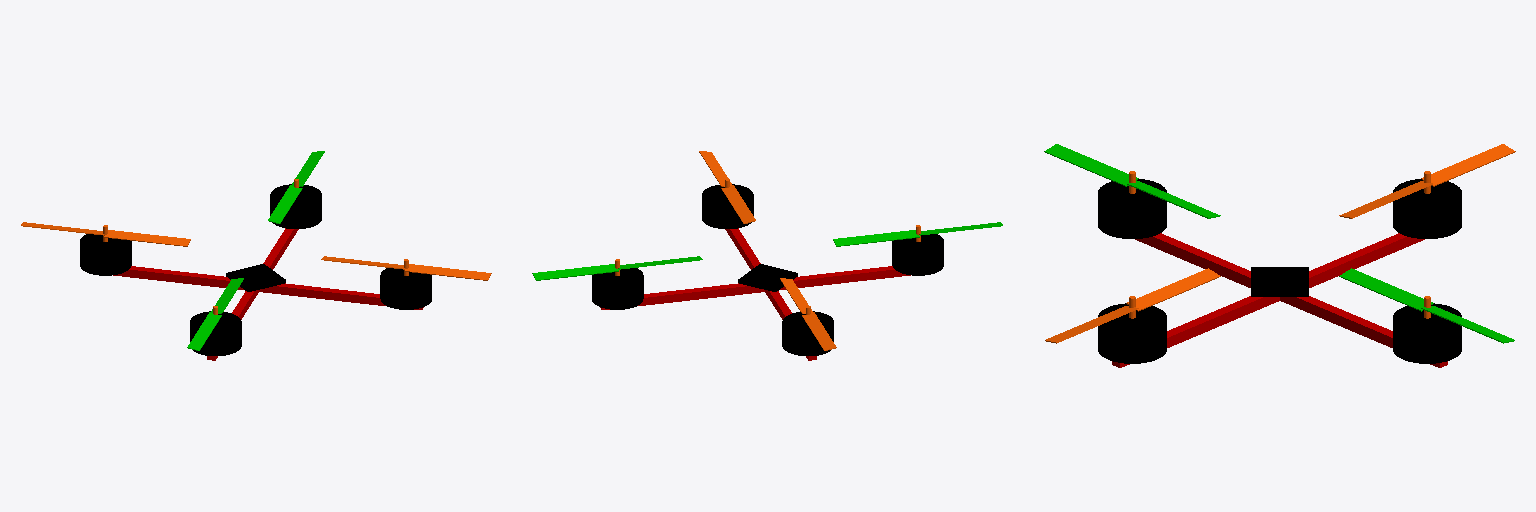
--- Render facts (derived) ---
Views: 3 orthographic renders of the robot side by side, from view 1: azimuth 30°, elevation 25°; view 2: azimuth 150°, elevation 25°; view 3: azimuth 270°, elevation 25°.
Model rrbot with 21 links and 20 joints (11 revolute, 4 continuous, 5 fixed), rooted at dummyroot, posed all joints at 0.
Visible links, largest first — view 1: bar0, motor1_link, motor3_link, motor0_link, motor2_link, FC, bar1, motor3_blade1, motor1_blade1, motor0_blade2, motor2_blade2; view 2: bar1, motor0_link, motor2_link, motor1_link, motor3_link, FC, bar0, motor2_blade1, motor0_blade1, motor1_blade2, motor3_blade2; view 3: bar0, bar1, motor0_link, motor1_link, motor2_link, motor3_link, FC, motor0_blade2, motor1_blade2, motor2_blade2, motor3_blade2, motor2_blade1 (+3 smaller).
Boxes of the visible links, box(x1,y1,x2,y2) form: bar0: box(113, 266, 423, 309); motor1_link: box(380, 268, 431, 309); motor3_link: box(80, 234, 131, 275); motor0_link: box(270, 184, 321, 228); motor2_link: box(190, 311, 241, 355); FC: box(226, 264, 285, 291); bar1: box(207, 228, 298, 360); motor3_blade1: box(104, 230, 190, 246); motor1_blade1: box(405, 264, 491, 280); motor0_blade2: box(268, 185, 302, 223); motor2_blade2: box(187, 312, 221, 350); bar1: box(600, 266, 910, 309); motor0_link: box(592, 268, 643, 309); motor2_link: box(892, 234, 943, 275); motor1_link: box(702, 184, 753, 228); motor3_link: box(782, 311, 833, 355); FC: box(738, 264, 797, 291); bar0: box(725, 228, 816, 360); motor2_blade1: box(833, 230, 919, 246); motor0_blade1: box(532, 264, 618, 280); motor1_blade2: box(721, 185, 755, 223); motor3_blade2: box(802, 312, 836, 350); bar0: box(1112, 233, 1424, 367); bar1: box(1135, 233, 1447, 367); motor0_link: box(1393, 303, 1461, 363); motor1_link: box(1098, 303, 1166, 363); motor2_link: box(1098, 179, 1166, 238); motor3_link: box(1393, 179, 1461, 238); FC: box(1251, 267, 1308, 296); motor0_blade2: box(1339, 268, 1433, 311); motor1_blade2: box(1126, 268, 1220, 311); motor2_blade2: box(1044, 144, 1138, 186); motor3_blade2: box(1421, 144, 1515, 186); motor2_blade1: box(1127, 181, 1220, 218).
Size in the robot's own frame: 0.4065 by 0.4065 by 0.0595 metres.
Geometry: primitives only (box / cylinder / sphere), no mesh files.

robot.urdf — rrbot:
<?xml version="1.0" ?>
<!-- =================================================================================== -->
<!-- |    This document was autogenerated by xacro from rrbot.xacro                    | -->
<!-- |    EDITING THIS FILE BY HAND IS NOT RECOMMENDED                                 | -->
<!-- =================================================================================== -->
<!-- Revolute-Revolute Manipulator -->
<robot name="rrbot">
  <!-- ros_control plugin -->
  <gazebo>
    <plugin filename="libgazebo_ros_control.so" name="gazebo_ros_control">
      <robotNamespace>/rrbot</robotNamespace>
      <robotSimType>gazebo_ros_control/DefaultRobotHWSim</robotSimType>
    </plugin>
    <plugin filename="libgazebo_ros_p3d.so" name="rrbot_groundtruth">
      <robotNamespace>/rrbot</robotNamespace>
      <frameName>world</frameName>
      <alwaysOn>true</alwaysOn>
      <bodyName>FC</bodyName>
      <topicName>position_groundtruth</topicName>
      <gaussianNoise>0.00</gaussianNoise>
      <updateRate>100.0</updateRate>
    </plugin>
    <plugin filename="libhector_gazebo_ros_imu.so" name="quadrotor_imu_gt">
      <robotNamespace>/rrbot</robotNamespace>
      <updateRate>100.0</updateRate>
      <frameId>world</frameId>
      <bodyName>FC</bodyName>
      <topicName>imu_groundtruth</topicName>
      <rpyOffset>0 0 0</rpyOffset>
      <!-- deprecated -->
      <gaussianNoise>0</gaussianNoise>
      <!-- deprecated -->
      <accelDrift>0 0 0</accelDrift>
      <accelGaussianNoise>0 0 0</accelGaussianNoise>
      <rateDrift>0 0 0</rateDrift>
      <rateGaussianNoise>0 0 0</rateGaussianNoise>
    </plugin>
    <plugin filename="libhector_gazebo_ros_imu.so" name="quadrotor_imu_sim">
      <robotNamespace>/rrbot</robotNamespace>
      <updateRate>100.0</updateRate>
      <frameId>world</frameId>
      <bodyName>FC</bodyName>
      <topicName>sim_imu</topicName>
      <rpyOffset>0 0 0</rpyOffset>
      <!-- deprecated -->
      <gaussianNoise>0</gaussianNoise>
      <!-- deprecated -->
      <accelDrift>0.05 0.05 0.05</accelDrift>
      <accelGaussianNoise>0.35 0.35 0.3</accelGaussianNoise>
      <rateDrift>0.1 0.1 0.1</rateDrift>
      <rateGaussianNoise>0.05 0.05 0.015</rateGaussianNoise>
    </plugin>
    <plugin filename="libhector_gazebo_ros_baro.so" name="quadrotor_baro_sim">
      <robotNamespace>/rrbot</robotNamespace>
      <updateRate>10.0</updateRate>
      <bodyName>FC</bodyName>
      <frameId>world</frameId>
      <topicName>sim_barometer</topicName>
      <altimeterTopicName>sim_altimeter</altimeterTopicName>
      <offset>0</offset>
      <drift>10.0</drift>
      <gaussianNoise>0.1</gaussianNoise>
    </plugin>
    <plugin filename="libhector_gazebo_ros_magnetic.so" name="quadrotor_magnetic_sim">
      <robotNamespace>/rrbot</robotNamespace>
      <updateRate>10.0</updateRate>
      <bodyName>FC</bodyName>
      <frameId>world</frameId>
      <topicName>sim_magnetometer</topicName>
      <offset>0 0 0</offset>
      <drift>0.0 0.0 0.0</drift>
      <gaussianNoise>1.3e-2 1.3e-2 1.3e-2</gaussianNoise>
    </plugin>
    <plugin filename="libhector_gazebo_ros_gps.so" name="quadrotor_gps_sim">
      <robotNamespace>/rrbot</robotNamespace>
      <updateRate>5.0</updateRate>
      <bodyName>FC</bodyName>
      <frameId>world</frameId>
      <topicName>sim_gps_fix</topicName>
      <velocityTopicName>sim_gps_vel</velocityTopicName>
      <referenceLatitude>48.75</referenceLatitude>
      <referenceLongitude>9.105</referenceLongitude>
      <drift>5.0 5.0 5.0</drift>
      <gaussianNoise>0.01 0.01 0.01</gaussianNoise>
      <velocityDrift>0 0 0</velocityDrift>
      <velocityGaussianNoise>0.05 0.05 0.05</velocityGaussianNoise>
    </plugin>
  </gazebo>
  <!-- The ft_sensor plugin 
    <gazebo reference="$FC_joint">
      <provideFeedback>true</provideFeedback>
    </gazebo>

	
    <gazebo>
      <plugin name="ft_sensor" filename="libgazebo_ros_ft_sensor.so">
        <updateRate>100.0</updateRate>
        <topicName>force_torque</topicName>
        <jointName>FC_joint</jointName>
     </plugin>
   </gazebo>
    
     The ft_sensor plugin -->
  <material name="Black">
    <color rgba="0.0 0.0 0.0 1.0"/>
  </material>
  <material name="Blue">
    <color rgba="0.0 0.0 0.8 1.0"/>
  </material>
  <material name="Green">
    <color rgba="0.0 0.8 0.0 1.0"/>
  </material>
  <material name="Grey">
    <color rgba="0.2 0.2 0.2 1.0"/>
  </material>
  <material name="Orange">
    <color rgba="1.0 0.4235294117647059 0.0392156862745098 1.0"/>
  </material>
  <material name="Brown">
    <color rgba="0.8705882352941177 0.8117647058823529 0.7647058823529411 1.0"/>
  </material>
  <material name="Red">
    <color rgba="0.8 0.0 0.0 1.0"/>
  </material>
  <material name="White">
    <color rgba="1.0 1.0 1.0 1.0"/>
  </material>
  <!-- dummy root link used for a vehicle that is not glued to the world map-->
  <link name="dummyroot"/>
  <link name="FC">
    <collision>
      <origin rpy="0 0 0" xyz="0 0 0"/>
      <geometry>
        <box size="0.05 0.05 0.005"/>
      </geometry>
    </collision>
    <visual>
      <origin rpy="0 0 0" xyz="0 0 0"/>
      <geometry>
        <box size="0.05 0.05 0.005"/>
      </geometry>
      <material name="Black"/>
    </visual>
    <inertial>
      <origin rpy="0 0 0" xyz="0 0 0"/>
      <mass value="0.002"/>
      <inertia ixx="4.2083333333333336e-07" ixy="0.0" ixz="0.0" iyy="4.2083333333333336e-07" iyz="0.0" izz="8.333333333333334e-07"/>
    </inertial>
  </link>
  <gazebo reference="FC">
    <material>Gazebo/Black</material>
    <mu1>0.2</mu1>
    <mu2>0.2</mu2>
  </gazebo>
  <joint name="FC_joint" type="revolute">
    <parent link="dummyroot"/>
    <origin rpy="0 0 0" xyz="0 0 0.01"/>
    <child link="FC"/>
    <limit effort="1000" lower="0" upper="0" velocity="10"/>
  </joint>
  <link name="FT_sensor">
    <collision>
      <origin rpy="0 0 0" xyz="0 0 0"/>
      <geometry>
        <box size="0.005 0.0005 0.0005"/>
      </geometry>
    </collision>
    <visual>
      <origin rpy="0 0 0" xyz="0 0 0"/>
      <geometry>
        <box size="0.005 0.0005 0.0005"/>
      </geometry>
      <material name="Black"/>
    </visual>
    <inertial>
      <origin rpy="0 0 0" xyz="0 0 0"/>
      <mass value="1e-05"/>
      <inertia ixx="4.166666666666667e-13" ixy="0.0" ixz="0.0" iyy="2.1041666666666668e-11" iyz="0.0" izz="2.1041666666666668e-11"/>
    </inertial>
  </link>
  <gazebo reference="FT_sensor">
    <material>Gazebo/Black</material>
    <mu1>0.2</mu1>
    <mu2>0.2</mu2>
  </gazebo>
  <joint name="FT_sensor_joint" type="revolute">
    <parent link="bar0"/>
    <origin rpy="0 0 0" xyz="0 0 0.00"/>
    <child link="FT_sensor"/>
    <limit effort="1000" lower="0" upper="0" velocity="10"/>
  </joint>
  <!-- <xacro:box_base_link name="FT_sensor" m="0.001" x="0.005" y="0.005" z="0.005" mat="Black">
        <nothing/>
    </xacro:box_base_link> -->
  <!-- <joint name="FT_sensor_joint" type="revolute">
        <parent link="dummyroot_FT"/>
        <origin xyz="0 0 0.01" rpy="0 0  ${PI/4}"/>
        <child link="FT_sensor"/>
        <limit effort="1000" velocity="10" lower="0" upper="0" />
    </joint> -->
  <!-- <joint name="${name}" type="revolute">
   <parent link="${parent}"/>
   <child link="${child}"/>
   <origin rpy="0 0 0" xyz="0 0 0"/>
   <axis xyz="1 0 0"/>
   <limit effort="1000" lower="0" upper="0" velocity="10"/>
  </joint>  -->
  <gazebo reference="FT_sensor_joint">
    <provideFeedback>true</provideFeedback>
  </gazebo>
  <!-- The ft_sensor plugin -->
  <gazebo>
    <plugin filename="libgazebo_ros_ft_sensor.so" name="ft_sensor">
      <updateRate>100.0</updateRate>
      <topicName>force_torque</topicName>
      <jointName>FT_sensor_joint</jointName>
    </plugin>
  </gazebo>
  <!-- END OF DEFINITION FT SENSOR ============================-->
  <!-- 2 red bars 90 degrees to each other -->
  <joint name="dummyrootjoint" type="revolute">
    <parent link="dummyroot"/>
    <origin rpy="0 0 -0.7853981633974483" xyz="0 0 0"/>
    <child link="bar0"/>
    <limit effort="1000" lower="0" upper="0" velocity="10"/>
  </joint>
  <link name="bar0">
    <collision>
      <origin rpy="0 0 0" xyz="0 0 0"/>
      <geometry>
        <box size="0.4 0.01 0.01"/>
      </geometry>
    </collision>
    <visual>
      <origin rpy="0 0 0" xyz="0 0 0"/>
      <geometry>
        <box size="0.4 0.01 0.01"/>
      </geometry>
      <material name="Red"/>
    </visual>
    <inertial>
      <origin rpy="0 0 0" xyz="0 0 0"/>
      <mass value="0.1"/>
      <inertia ixx="1.6666666666666667e-06" ixy="0.0" ixz="0.0" iyy="0.0013341666666666669" iyz="0.0" izz="0.0013341666666666669"/>
    </inertial>
  </link>
  <gazebo reference="bar0">
    <material>Gazebo/Red</material>
    <mu1>0.2</mu1>
    <mu2>0.2</mu2>
  </gazebo>
  <joint name="bar_joint" type="fixed">
    <parent link="dummyroot"/>
    <origin rpy="0 0 0.7853981633974483" xyz="0 0 0"/>
    <child link="bar1"/>
  </joint>
  <link name="bar1">
    <collision>
      <origin rpy="0 0 0" xyz="0 0 0"/>
      <geometry>
        <box size="0.4 0.01 0.01"/>
      </geometry>
    </collision>
    <visual>
      <origin rpy="0 0 0" xyz="0 0 0"/>
      <geometry>
        <box size="0.4 0.01 0.01"/>
      </geometry>
      <material name="Red"/>
    </visual>
    <inertial>
      <origin rpy="0 0 0" xyz="0 0 0"/>
      <mass value="0.1"/>
      <inertia ixx="1.6666666666666667e-06" ixy="0.0" ixz="0.0" iyy="0.0013341666666666669" iyz="0.0" izz="0.0013341666666666669"/>
    </inertial>
  </link>
  <gazebo reference="bar1">
    <material>Gazebo/Red</material>
    <mu1>0.2</mu1>
    <mu2>0.2</mu2>
  </gazebo>
  <!-- one motor of each type as example - please also check file:
        < rrbot_control/config/rrbot_control.yaml >
        where the motors are referenced for virtual engine controllers -->
  <joint name="bar_motor0_joint" type="fixed">
    <parent link="bar1"/>
    <origin rpy="0 0 0" xyz="0.18 0 0.02"/>
    <child link="motor0_link"/>
  </joint>
  <link name="motor0_link">
    <collision>
      <origin rpy="0 0 0" xyz="0 0 0"/>
      <geometry>
        <cylinder length="0.03" radius="0.03"/>
      </geometry>
    </collision>
    <visual>
      <origin rpy="0 0 0" xyz="0 0 0"/>
      <geometry>
        <cylinder length="0.03" radius="0.03"/>
      </geometry>
      <material name="Black"/>
    </visual>
    <inertial>
      <origin rpy="0 0 0" xyz="0 0 0"/>
      <mass value="0.05"/>
      <inertia ixx="1.4999999999999999e-05" ixy="0.0" ixz="0.0" iyy="1.4999999999999999e-05" iyz="0.0" izz="2.25e-05"/>
    </inertial>
  </link>
  <gazebo reference="motor0_link">
    <material>Gazebo/Black</material>
    <mu1>0.2</mu1>
    <mu2>0.2</mu2>
  </gazebo>
  <!--xacro:insert_block name="gaz_extra" /-->
  <joint name="motor0" type="continuous">
    <limit effort="100" velocity="1000"/>
    <dynamics damping="0.0001" friction="0.01"/>
    <parent link="motor0_link"/>
    <origin rpy="3.141592653589793 0 0" xyz="0 0 0.025"/>
    <!-- note: rotated 180 deg to force reverse rotation -->
    <axis xyz="0 0 1"/>
    <child link="motor0_axle"/>
  </joint>
  <transmission name="motor0_trans">
    <type>transmission_interface/SimpleTransmission</type>
    <joint name="motor0">
      <hardwareInterface>hardware_interface/EffortJointInterface</hardwareInterface>
    </joint>
    <actuator name="motor0">
      <hardwareInterface>hardware_interface/EffortJointInterface</hardwareInterface>
      <mechanicalReduction>1</mechanicalReduction>
    </actuator>
  </transmission>
  <link name="motor0_axle">
    <collision>
      <origin rpy="0 0 0" xyz="0 0 0"/>
      <geometry>
        <cylinder length="0.019" radius="0.003"/>
      </geometry>
    </collision>
    <visual>
      <origin rpy="0 0 0" xyz="0 0 0"/>
      <geometry>
        <cylinder length="0.019" radius="0.003"/>
      </geometry>
      <material name="Orange"/>
    </visual>
    <inertial>
      <origin rpy="0 0 0" xyz="0 0 0"/>
      <mass value="0.05"/>
      <inertia ixx="1.6166666666666667e-06" ixy="0.0" ixz="0.0" iyy="1.6166666666666667e-06" iyz="0.0" izz="2.2500000000000002e-07"/>
    </inertial>
  </link>
  <gazebo reference="motor0_axle">
    <material>Gazebo/Orange</material>
    <mu1>0.2</mu1>
    <mu2>0.2</mu2>
  </gazebo>
  <!--xacro:insert_block name="gaz_extra" /-->
  <joint name="motor0_blade1_joint" type="revolute">
    <!-- this must be a revolute joint due to a simulator bug. it does not actually move -->
    <limit effort="1000" lower="0" upper="0" velocity="0"/>
    <parent link="motor0_axle"/>
    <origin rpy="-0.17453292519943295 0 0" xyz="0.05 0 0"/>
    <!-- this is the angle of attack of the prop blade: reverse 10 deg-->
    <axis xyz="0 0 1"/>
    <child link="motor0_blade1"/>
  </joint>
  <link name="motor0_blade1">
    <collision>
      <origin rpy="0 0 0" xyz="0 0 0"/>
      <geometry>
        <box size="0.1 0.015 0.001"/>
      </geometry>
    </collision>
    <visual>
      <origin rpy="0 0 0" xyz="0 0 0"/>
      <geometry>
        <box size="0.1 0.015 0.001"/>
      </geometry>
      <material name="Green"/>
    </visual>
    <inertial>
      <origin rpy="0 0 0" xyz="0 0 0"/>
      <mass value="0.005"/>
      <inertia ixx="9.416666666666667e-08" ixy="0.0" ixz="0.0" iyy="4.1670833333333344e-06" iyz="0.0" izz="4.2604166666666675e-06"/>
    </inertial>
  </link>
  <gazebo reference="motor0_blade1">
    <material>Gazebo/Green</material>
    <mu1>0.2</mu1>
    <mu2>0.2</mu2>
  </gazebo>
  <gazebo>
    <plugin filename="libLiftDragPlugin.so" name="motor0_blade1_lifting_surface">
      <a0>0</a0>
      <alpha_stall>0.3368</alpha_stall>
      <cla>5.418</cla>
      <cla_stall>-2.1419</cla_stall>
      <cda>0.6366197723675814</cda>
      <cda_stall>0.6366197723675814</cda_stall>
      <area>0.015</area>
      <!-- using 10 times the area to enforce lower prop speeds due to simulator limitations -->
      <air_density>1.2041</air_density>
      <forward>0 1 0</forward>
      <upward>0 0 1</upward>
      <cp>0 0 0</cp>
      <link_name>motor0_blade1</link_name>
      <radial_symmetry>false</radial_symmetry>
    </plugin>
  </gazebo>
  <joint name="motor0_blade2_joint" type="revolute">
    <!-- this must be a revolute joint due to a simulator bug. it does not actually move -->
    <limit effort="1000" lower="0" upper="0" velocity="0"/>
    <parent link="motor0_axle"/>
    <origin rpy="-0.17453292519943295 0 3.141592653589793" xyz="-0.05 0 0"/>
    <!-- this is the angle of attack of the prop blade: reverse 10 deg-->
    <axis xyz="0 0 1"/>
    <child link="motor0_blade2"/>
  </joint>
  <link name="motor0_blade2">
    <collision>
      <origin rpy="0 0 0" xyz="0 0 0"/>
      <geometry>
        <box size="0.1 0.015 0.001"/>
      </geometry>
    </collision>
    <visual>
      <origin rpy="0 0 0" xyz="0 0 0"/>
      <geometry>
        <box size="0.1 0.015 0.001"/>
      </geometry>
      <material name="Green"/>
    </visual>
    <inertial>
      <origin rpy="0 0 0" xyz="0 0 0"/>
      <mass value="0.005"/>
      <inertia ixx="9.416666666666667e-08" ixy="0.0" ixz="0.0" iyy="4.1670833333333344e-06" iyz="0.0" izz="4.2604166666666675e-06"/>
    </inertial>
  </link>
  <gazebo reference="motor0_blade2">
    <material>Gazebo/Green</material>
    <mu1>0.2</mu1>
    <mu2>0.2</mu2>
  </gazebo>
  <gazebo>
    <plugin filename="libLiftDragPlugin.so" name="motor0_blade2_lifting_surface">
      <a0>0</a0>
      <alpha_stall>0.3368</alpha_stall>
      <cla>5.418</cla>
      <cla_stall>-2.1419</cla_stall>
      <cda>0.6366197723675814</cda>
      <cda_stall>0.6366197723675814</cda_stall>
      <area>0.015</area>
      <!-- using 10 times the area to enforce lower prop speeds due to simulator limitations -->
      <air_density>1.2041</air_density>
      <forward>0 1 0</forward>
      <upward>0 0 1</upward>
      <cp>0 0 0</cp>
      <link_name>motor0_blade2</link_name>
      <radial_symmetry>false</radial_symmetry>
    </plugin>
  </gazebo>
  <joint name="bar_motor2_joint" type="fixed">
    <parent link="bar1"/>
    <origin rpy="0 0 0" xyz="-0.18 0 0.02"/>
    <child link="motor2_link"/>
  </joint>
  <link name="motor2_link">
    <collision>
      <origin rpy="0 0 0" xyz="0 0 0"/>
      <geometry>
        <cylinder length="0.03" radius="0.03"/>
      </geometry>
    </collision>
    <visual>
      <origin rpy="0 0 0" xyz="0 0 0"/>
      <geometry>
        <cylinder length="0.03" radius="0.03"/>
      </geometry>
      <material name="Black"/>
    </visual>
    <inertial>
      <origin rpy="0 0 0" xyz="0 0 0"/>
      <mass value="0.05"/>
      <inertia ixx="1.4999999999999999e-05" ixy="0.0" ixz="0.0" iyy="1.4999999999999999e-05" iyz="0.0" izz="2.25e-05"/>
    </inertial>
  </link>
  <gazebo reference="motor2_link">
    <material>Gazebo/Black</material>
    <mu1>0.2</mu1>
    <mu2>0.2</mu2>
  </gazebo>
  <!--xacro:insert_block name="gaz_extra" /-->
  <joint name="motor2" type="continuous">
    <limit effort="100" velocity="1000"/>
    <dynamics damping="0.0001" friction="0.01"/>
    <parent link="motor2_link"/>
    <origin rpy="3.141592653589793 0 0" xyz="0 0 0.025"/>
    <!-- note: rotated 180 deg to force reverse rotation -->
    <axis xyz="0 0 1"/>
    <child link="motor2_axle"/>
  </joint>
  <transmission name="motor2_trans">
    <type>transmission_interface/SimpleTransmission</type>
    <joint name="motor2">
      <hardwareInterface>hardware_interface/EffortJointInterface</hardwareInterface>
    </joint>
    <actuator name="motor2">
      <hardwareInterface>hardware_interface/EffortJointInterface</hardwareInterface>
      <mechanicalReduction>1</mechanicalReduction>
    </actuator>
  </transmission>
  <link name="motor2_axle">
    <collision>
      <origin rpy="0 0 0" xyz="0 0 0"/>
      <geometry>
        <cylinder length="0.019" radius="0.003"/>
      </geometry>
    </collision>
    <visual>
      <origin rpy="0 0 0" xyz="0 0 0"/>
      <geometry>
        <cylinder length="0.019" radius="0.003"/>
      </geometry>
      <material name="Orange"/>
    </visual>
    <inertial>
      <origin rpy="0 0 0" xyz="0 0 0"/>
      <mass value="0.05"/>
      <inertia ixx="1.6166666666666667e-06" ixy="0.0" ixz="0.0" iyy="1.6166666666666667e-06" iyz="0.0" izz="2.2500000000000002e-07"/>
    </inertial>
  </link>
  <gazebo reference="motor2_axle">
    <material>Gazebo/Orange</material>
    <mu1>0.2</mu1>
    <mu2>0.2</mu2>
  </gazebo>
  <!--xacro:insert_block name="gaz_extra" /-->
  <joint name="motor2_blade1_joint" type="revolute">
    <!-- this must be a revolute joint due to a simulator bug. it does not actually move -->
    <limit effort="1000" lower="0" upper="0" velocity="0"/>
    <parent link="motor2_axle"/>
    <origin rpy="-0.17453292519943295 0 0" xyz="0.05 0 0"/>
    <!-- this is the angle of attack of the prop blade: reverse 10 deg-->
    <axis xyz="0 0 1"/>
    <child link="motor2_blade1"/>
  </joint>
  <link name="motor2_blade1">
    <collision>
      <origin rpy="0 0 0" xyz="0 0 0"/>
      <geometry>
        <box size="0.1 0.015 0.001"/>
      </geometry>
    </collision>
    <visual>
      <origin rpy="0 0 0" xyz="0 0 0"/>
      <geometry>
        <box size="0.1 0.015 0.001"/>
      </geometry>
      <material name="Green"/>
    </visual>
    <inertial>
      <origin rpy="0 0 0" xyz="0 0 0"/>
      <mass value="0.005"/>
      <inertia ixx="9.416666666666667e-08" ixy="0.0" ixz="0.0" iyy="4.1670833333333344e-06" iyz="0.0" izz="4.2604166666666675e-06"/>
    </inertial>
  </link>
  <gazebo reference="motor2_blade1">
    <material>Gazebo/Green</material>
    <mu1>0.2</mu1>
    <mu2>0.2</mu2>
  </gazebo>
  <gazebo>
    <plugin filename="libLiftDragPlugin.so" name="motor2_blade1_lifting_surface">
      <a0>0</a0>
      <alpha_stall>0.3368</alpha_stall>
      <cla>5.418</cla>
      <cla_stall>-2.1419</cla_stall>
      <cda>0.6366197723675814</cda>
      <cda_stall>0.6366197723675814</cda_stall>
      <area>0.015</area>
      <!-- using 10 times the area to enforce lower prop speeds due to simulator limitations -->
      <air_density>1.2041</air_density>
      <forward>0 1 0</forward>
      <upward>0 0 1</upward>
      <cp>0 0 0</cp>
      <link_name>motor2_blade1</link_name>
      <radial_symmetry>false</radial_symmetry>
    </plugin>
  </gazebo>
  <joint name="motor2_blade2_joint" type="revolute">
    <!-- this must be a revolute joint due to a simulator bug. it does not actually move -->
    <limit effort="1000" lower="0" upper="0" velocity="0"/>
    <parent link="motor2_axle"/>
    <origin rpy="-0.17453292519943295 0 3.141592653589793" xyz="-0.05 0 0"/>
    <!-- this is the angle of attack of the prop blade: reverse 10 deg-->
    <axis xyz="0 0 1"/>
    <child link="motor2_blade2"/>
  </joint>
  <link name="motor2_blade2">
    <collision>
      <origin rpy="0 0 0" xyz="0 0 0"/>
      <geometry>
        <box size="0.1 0.015 0.001"/>
      </geometry>
    </collision>
    <visual>
      <origin rpy="0 0 0" xyz="0 0 0"/>
      <geometry>
        <box size="0.1 0.015 0.001"/>
      </geometry>
      <material name="Green"/>
    </visual>
    <inertial>
      <origin rpy="0 0 0" xyz="0 0 0"/>
      <mass value="0.005"/>
      <inertia ixx="9.416666666666667e-08" ixy="0.0" ixz="0.0" iyy="4.1670833333333344e-06" iyz="0.0" izz="4.2604166666666675e-06"/>
    </inertial>
  </link>
  <gazebo reference="motor2_blade2">
    <material>Gazebo/Green</material>
    <mu1>0.2</mu1>
    <mu2>0.2</mu2>
  </gazebo>
  <gazebo>
    <plugin filename="libLiftDragPlugin.so" name="motor2_blade2_lifting_surface">
      <a0>0</a0>
      <alpha_stall>0.3368</alpha_stall>
      <cla>5.418</cla>
      <cla_stall>-2.1419</cla_stall>
      <cda>0.6366197723675814</cda>
      <cda_stall>0.6366197723675814</cda_stall>
      <area>0.015</area>
      <!-- using 10 times the area to enforce lower prop speeds due to simulator limitations -->
      <air_density>1.2041</air_density>
      <forward>0 1 0</forward>
      <upward>0 0 1</upward>
      <cp>0 0 0</cp>
      <link_name>motor2_blade2</link_name>
      <radial_symmetry>false</radial_symmetry>
    </plugin>
  </gazebo>
  <joint name="bar_motor1_joint" type="fixed">
    <parent link="bar0"/>
    <origin rpy="0 0 0" xyz="0.18 0 0.02"/>
    <child link="motor1_link"/>
  </joint>
  <link name="motor1_link">
    <collision>
      <origin rpy="0 0 0" xyz="0 0 0"/>
      <geometry>
        <cylinder length="0.03" radius="0.03"/>
      </geometry>
    </collision>
    <visual>
      <origin rpy="0 0 0" xyz="0 0 0"/>
      <geometry>
        <cylinder length="0.03" radius="0.03"/>
      </geometry>
      <material name="Black"/>
    </visual>
    <inertial>
      <origin rpy="0 0 0" xyz="0 0 0"/>
      <mass value="0.05"/>
      <inertia ixx="1.4999999999999999e-05" ixy="0.0" ixz="0.0" iyy="1.4999999999999999e-05" iyz="0.0" izz="2.25e-05"/>
    </inertial>
  </link>
  <gazebo reference="motor1_link">
    <material>Gazebo/Black</material>
    <mu1>0.2</mu1>
    <mu2>0.2</mu2>
  </gazebo>
  <!--xacro:insert_block name="gaz_extra" /-->
  <joint name="motor1" type="continuous">
    <limit effort="100" velocity="1000"/>
    <dynamics damping="0.0001" friction="0.01"/>
    <parent link="motor1_link"/>
    <origin rpy="0 0 0" xyz="0 0 0.025"/>
    <axis xyz="0 0 1"/>
    <child link="motor1_axle"/>
  </joint>
  <transmission name="motor1_trans">
    <type>transmission_interface/SimpleTransmission</type>
    <joint name="motor1">
      <hardwareInterface>hardware_interface/EffortJointInterface</hardwareInterface>
    </joint>
    <actuator name="motor1">
      <hardwareInterface>hardware_interface/EffortJointInterface</hardwareInterface>
      <mechanicalReduction>1</mechanicalReduction>
    </actuator>
  </transmission>
  <link name="motor1_axle">
    <collision>
      <origin rpy="0 0 0" xyz="0 0 0"/>
      <geometry>
        <cylinder length="0.019" radius="0.003"/>
      </geometry>
    </collision>
    <visual>
      <origin rpy="0 0 0" xyz="0 0 0"/>
      <geometry>
        <cylinder length="0.019" radius="0.003"/>
      </geometry>
      <material name="Orange"/>
    </visual>
    <inertial>
      <origin rpy="0 0 0" xyz="0 0 0"/>
      <mass value="0.05"/>
      <inertia ixx="1.6166666666666667e-06" ixy="0.0" ixz="0.0" iyy="1.6166666666666667e-06" iyz="0.0" izz="2.2500000000000002e-07"/>
    </inertial>
  </link>
  <gazebo reference="motor1_axle">
    <material>Gazebo/Orange</material>
    <mu1>0.2</mu1>
    <mu2>0.2</mu2>
  </gazebo>
  <!--xacro:insert_block name="gaz_extra" /-->
  <joint name="motor1_blade1_joint" type="revolute">
    <!-- this must be a revolute joint due to a simulator bug. it does not actually move -->
    <limit effort="1000" lower="0" upper="0" velocity="0"/>
    <parent link="motor1_axle"/>
    <origin rpy="0.17453292519943295 0 0" xyz="0.05 0 0"/>
    <!-- this is the angle of attack of the prop blade: 10 deg-->
    <axis xyz="0 0 1"/>
    <child link="motor1_blade1"/>
  </joint>
  <link name="motor1_blade1">
    <collision>
      <origin rpy="0 0 0" xyz="0 0 0"/>
      <geometry>
        <box size="0.1 0.015 0.001"/>
      </geometry>
    </collision>
    <visual>
      <origin rpy="0 0 0" xyz="0 0 0"/>
      <geometry>
        <box size="0.1 0.015 0.001"/>
      </geometry>
      <material name="Orange"/>
    </visual>
    <inertial>
      <origin rpy="0 0 0" xyz="0 0 0"/>
      <mass value="0.005"/>
      <inertia ixx="9.416666666666667e-08" ixy="0.0" ixz="0.0" iyy="4.1670833333333344e-06" iyz="0.0" izz="4.2604166666666675e-06"/>
    </inertial>
  </link>
  <gazebo reference="motor1_blade1">
    <material>Gazebo/Orange</material>
    <mu1>0.2</mu1>
    <mu2>0.2</mu2>
  </gazebo>
  <gazebo>
    <plugin filename="libLiftDragPlugin.so" name="motor1_blade1_lifting_surface">
      <a0>0</a0>
      <alpha_stall>0.3368</alpha_stall>
      <cla>5.418</cla>
      <cla_stall>-2.1419</cla_stall>
      <cda>0.6366197723675814</cda>
      <cda_stall>0.6366197723675814</cda_stall>
      <area>0.015</area>
      <!-- using 10 times the area to enforce lower prop speeds due to simulator limitations -->
      <air_density>1.2041</air_density>
      <forward>0 1 0</forward>
      <upward>0 0 1</upward>
      <cp>0 0 0</cp>
      <link_name>motor1_blade1</link_name>
      <radial_symmetry>false</radial_symmetry>
    </plugin>
  </gazebo>
  <joint name="motor1_blade2_joint" type="revolute">
    <!-- this must be a revolute joint due to a simulator bug. it does not actually move -->
    <limit effort="1000" lower="0" upper="0" velocity="0"/>
    <parent link="motor1_axle"/>
    <origin rpy="0.17453292519943295 0 3.141592653589793" xyz="-0.05 0 0"/>
    <!-- this is the angle of attack of the prop blade: 10 deg-->
    <axis xyz="0 0 1"/>
    <child link="motor1_blade2"/>
  </joint>
  <link name="motor1_blade2">
    <collision>
      <origin rpy="0 0 0" xyz="0 0 0"/>
      <geometry>
        <box size="0.1 0.015 0.001"/>
      </geometry>
    </collision>
    <visual>
      <origin rpy="0 0 0" xyz="0 0 0"/>
      <geometry>
        <box size="0.1 0.015 0.001"/>
      </geometry>
      <material name="Orange"/>
    </visual>
    <inertial>
      <origin rpy="0 0 0" xyz="0 0 0"/>
      <mass value="0.005"/>
      <inertia ixx="9.416666666666667e-08" ixy="0.0" ixz="0.0" iyy="4.1670833333333344e-06" iyz="0.0" izz="4.2604166666666675e-06"/>
    </inertial>
  </link>
  <gazebo reference="motor1_blade2">
    <material>Gazebo/Orange</material>
    <mu1>0.2</mu1>
    <mu2>0.2</mu2>
  </gazebo>
  <gazebo>
    <plugin filename="libLiftDragPlugin.so" name="motor1_blade2_lifting_surface">
      <a0>0</a0>
      <alpha_stall>0.3368</alpha_stall>
      <cla>5.418</cla>
      <cla_stall>-2.1419</cla_stall>
      <cda>0.6366197723675814</cda>
      <cda_stall>0.6366197723675814</cda_stall>
      <area>0.015</area>
      <!-- using 10 times the area to enforce lower prop speeds due to simulator limitations -->
      <air_density>1.2041</air_density>
      <forward>0 1 0</forward>
      <upward>0 0 1</upward>
      <cp>0 0 0</cp>
      <link_name>motor1_blade2</link_name>
      <radial_symmetry>false</radial_symmetry>
    </plugin>
  </gazebo>
  <joint name="bar_motor3_joint" type="fixed">
    <parent link="bar0"/>
    <origin rpy="0 0 0" xyz="-0.18 0 0.02"/>
    <child link="motor3_link"/>
  </joint>
  <link name="motor3_link">
    <collision>
      <origin rpy="0 0 0" xyz="0 0 0"/>
      <geometry>
        <cylinder length="0.03" radius="0.03"/>
      </geometry>
    </collision>
    <visual>
      <origin rpy="0 0 0" xyz="0 0 0"/>
      <geometry>
        <cylinder length="0.03" radius="0.03"/>
      </geometry>
      <material name="Black"/>
    </visual>
    <inertial>
      <origin rpy="0 0 0" xyz="0 0 0"/>
      <mass value="0.05"/>
      <inertia ixx="1.4999999999999999e-05" ixy="0.0" ixz="0.0" iyy="1.4999999999999999e-05" iyz="0.0" izz="2.25e-05"/>
    </inertial>
  </link>
  <gazebo reference="motor3_link">
    <material>Gazebo/Black</material>
    <mu1>0.2</mu1>
    <mu2>0.2</mu2>
  </gazebo>
  <!--xacro:insert_block name="gaz_extra" /-->
  <joint name="motor3" type="continuous">
    <limit effort="100" velocity="1000"/>
    <dynamics damping="0.0001" friction="0.01"/>
    <parent link="motor3_link"/>
    <origin rpy="0 0 0" xyz="0 0 0.025"/>
    <axis xyz="0 0 1"/>
    <child link="motor3_axle"/>
  </joint>
  <transmission name="motor3_trans">
    <type>transmission_interface/SimpleTransmission</type>
    <joint name="motor3">
      <hardwareInterface>hardware_interface/EffortJointInterface</hardwareInterface>
    </joint>
    <actuator name="motor3">
      <hardwareInterface>hardware_interface/EffortJointInterface</hardwareInterface>
      <mechanicalReduction>1</mechanicalReduction>
    </actuator>
  </transmission>
  <link name="motor3_axle">
    <collision>
      <origin rpy="0 0 0" xyz="0 0 0"/>
      <geometry>
        <cylinder length="0.019" radius="0.003"/>
      </geometry>
    </collision>
    <visual>
      <origin rpy="0 0 0" xyz="0 0 0"/>
      <geometry>
        <cylinder length="0.019" radius="0.003"/>
      </geometry>
      <material name="Orange"/>
    </visual>
    <inertial>
      <origin rpy="0 0 0" xyz="0 0 0"/>
      <mass value="0.05"/>
      <inertia ixx="1.6166666666666667e-06" ixy="0.0" ixz="0.0" iyy="1.6166666666666667e-06" iyz="0.0" izz="2.2500000000000002e-07"/>
    </inertial>
  </link>
  <gazebo reference="motor3_axle">
    <material>Gazebo/Orange</material>
    <mu1>0.2</mu1>
    <mu2>0.2</mu2>
  </gazebo>
  <!--xacro:insert_block name="gaz_extra" /-->
  <joint name="motor3_blade1_joint" type="revolute">
    <!-- this must be a revolute joint due to a simulator bug. it does not actually move -->
    <limit effort="1000" lower="0" upper="0" velocity="0"/>
    <parent link="motor3_axle"/>
    <origin rpy="0.17453292519943295 0 0" xyz="0.05 0 0"/>
    <!-- this is the angle of attack of the prop blade: 10 deg-->
    <axis xyz="0 0 1"/>
    <child link="motor3_blade1"/>
  </joint>
  <link name="motor3_blade1">
    <collision>
      <origin rpy="0 0 0" xyz="0 0 0"/>
      <geometry>
        <box size="0.1 0.015 0.001"/>
      </geometry>
    </collision>
    <visual>
      <origin rpy="0 0 0" xyz="0 0 0"/>
      <geometry>
        <box size="0.1 0.015 0.001"/>
      </geometry>
      <material name="Orange"/>
    </visual>
    <inertial>
      <origin rpy="0 0 0" xyz="0 0 0"/>
      <mass value="0.005"/>
      <inertia ixx="9.416666666666667e-08" ixy="0.0" ixz="0.0" iyy="4.1670833333333344e-06" iyz="0.0" izz="4.2604166666666675e-06"/>
    </inertial>
  </link>
  <gazebo reference="motor3_blade1">
    <material>Gazebo/Orange</material>
    <mu1>0.2</mu1>
    <mu2>0.2</mu2>
  </gazebo>
  <gazebo>
    <plugin filename="libLiftDragPlugin.so" name="motor3_blade1_lifting_surface">
      <a0>0</a0>
      <alpha_stall>0.3368</alpha_stall>
      <cla>5.418</cla>
      <cla_stall>-2.1419</cla_stall>
      <cda>0.6366197723675814</cda>
      <cda_stall>0.6366197723675814</cda_stall>
      <area>0.015</area>
      <!-- using 10 times the area to enforce lower prop speeds due to simulator limitations -->
      <air_density>1.2041</air_density>
      <forward>0 1 0</forward>
      <upward>0 0 1</upward>
      <cp>0 0 0</cp>
      <link_name>motor3_blade1</link_name>
      <radial_symmetry>false</radial_symmetry>
    </plugin>
  </gazebo>
  <joint name="motor3_blade2_joint" type="revolute">
    <!-- this must be a revolute joint due to a simulator bug. it does not actually move -->
    <limit effort="1000" lower="0" upper="0" velocity="0"/>
    <parent link="motor3_axle"/>
    <origin rpy="0.17453292519943295 0 3.141592653589793" xyz="-0.05 0 0"/>
    <!-- this is the angle of attack of the prop blade: 10 deg-->
    <axis xyz="0 0 1"/>
    <child link="motor3_blade2"/>
  </joint>
  <link name="motor3_blade2">
    <collision>
      <origin rpy="0 0 0" xyz="0 0 0"/>
      <geometry>
        <box size="0.1 0.015 0.001"/>
      </geometry>
    </collision>
    <visual>
      <origin rpy="0 0 0" xyz="0 0 0"/>
      <geometry>
        <box size="0.1 0.015 0.001"/>
      </geometry>
      <material name="Orange"/>
    </visual>
    <inertial>
      <origin rpy="0 0 0" xyz="0 0 0"/>
      <mass value="0.005"/>
      <inertia ixx="9.416666666666667e-08" ixy="0.0" ixz="0.0" iyy="4.1670833333333344e-06" iyz="0.0" izz="4.2604166666666675e-06"/>
    </inertial>
  </link>
  <gazebo reference="motor3_blade2">
    <material>Gazebo/Orange</material>
    <mu1>0.2</mu1>
    <mu2>0.2</mu2>
  </gazebo>
  <gazebo>
    <plugin filename="libLiftDragPlugin.so" name="motor3_blade2_lifting_surface">
      <a0>0</a0>
      <alpha_stall>0.3368</alpha_stall>
      <cla>5.418</cla>
      <cla_stall>-2.1419</cla_stall>
      <cda>0.6366197723675814</cda>
      <cda_stall>0.6366197723675814</cda_stall>
      <area>0.015</area>
      <!-- using 10 times the area to enforce lower prop speeds due to simulator limitations -->
      <air_density>1.2041</air_density>
      <forward>0 1 0</forward>
      <upward>0 0 1</upward>
      <cp>0 0 0</cp>
      <link_name>motor3_blade2</link_name>
      <radial_symmetry>false</radial_symmetry>
    </plugin>
  </gazebo>
  <!-- BEGIN force/torque sensor -->
  <!-- <xacro:fixed_joint_force_torque_macro name_joint="force_torque_sensor_joint" parent="dummyroot" child="force_torque_sensor" /> -->
  <!-- END force/torque sensor -->
</robot>
